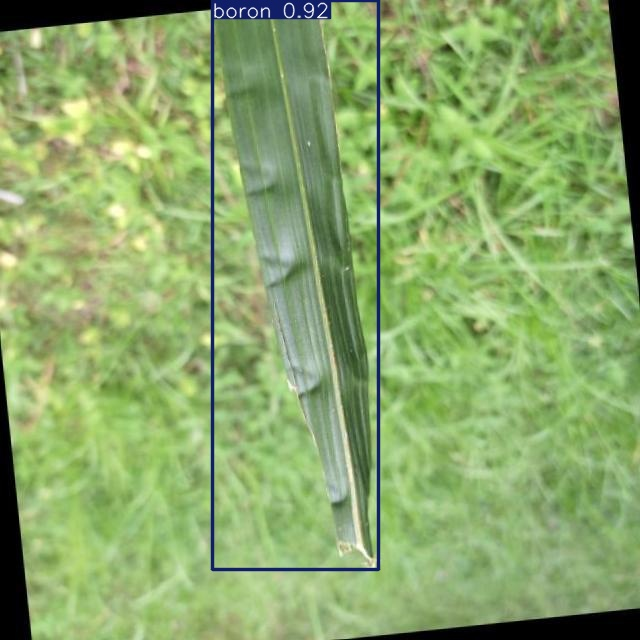nitrogen: (212, 0, 379, 569)
